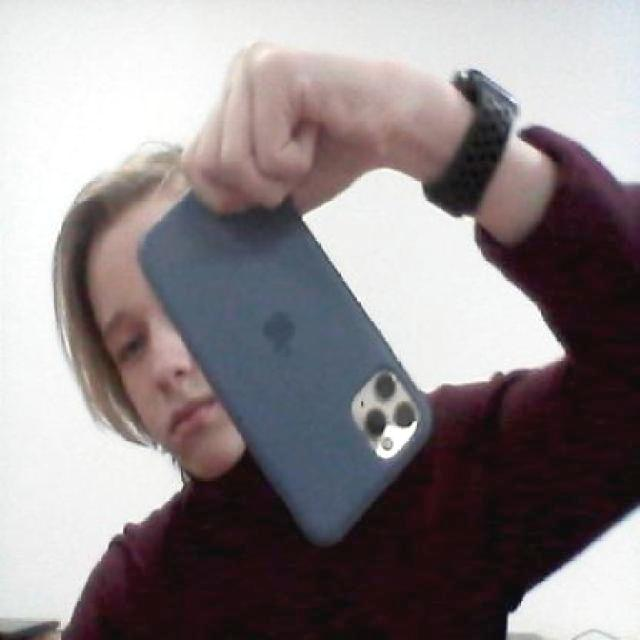phone: (132, 150, 433, 552)
